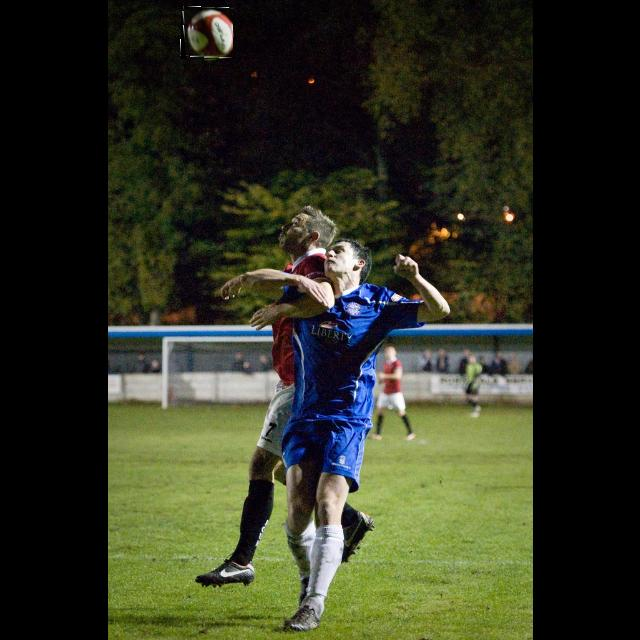Football: (181, 7, 233, 59)
